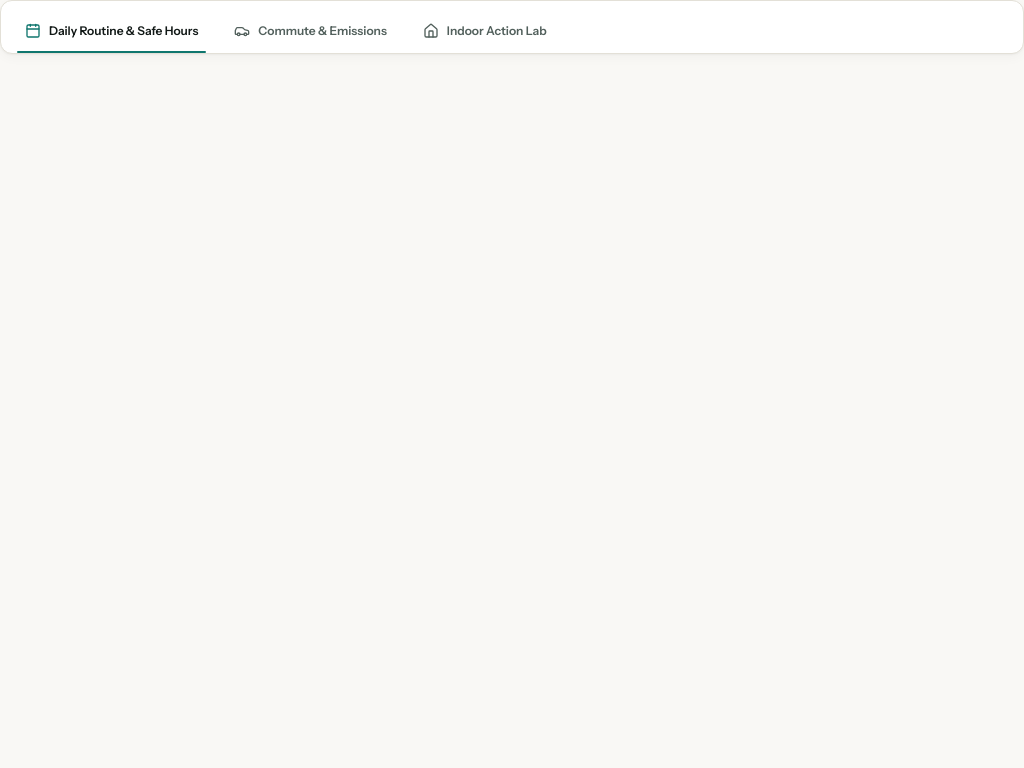
Test case: WorkspaceTabs Component › switches tab on click
This screenshot has width=1024, height=768.
Click the tab "Commute & Emissions": (311, 31) top-left (218, 9), bottom-right (403, 53)
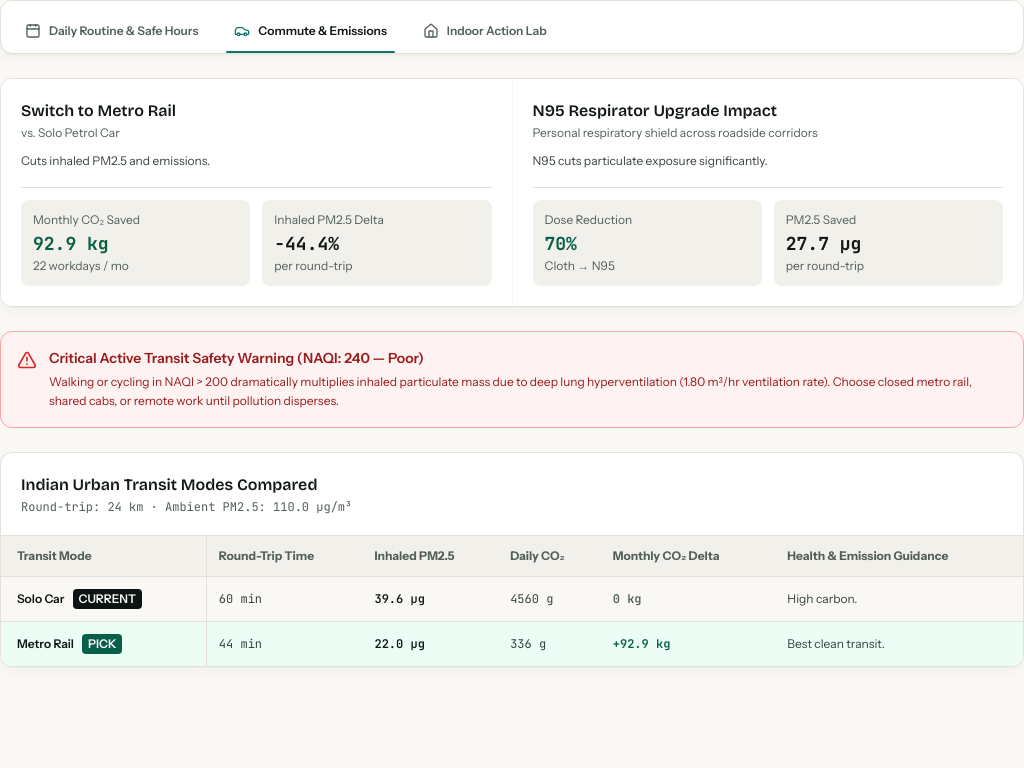
Expected: the tab "Commute & Emissions" is selected, top-left (218, 9), bottom-right (403, 53)
